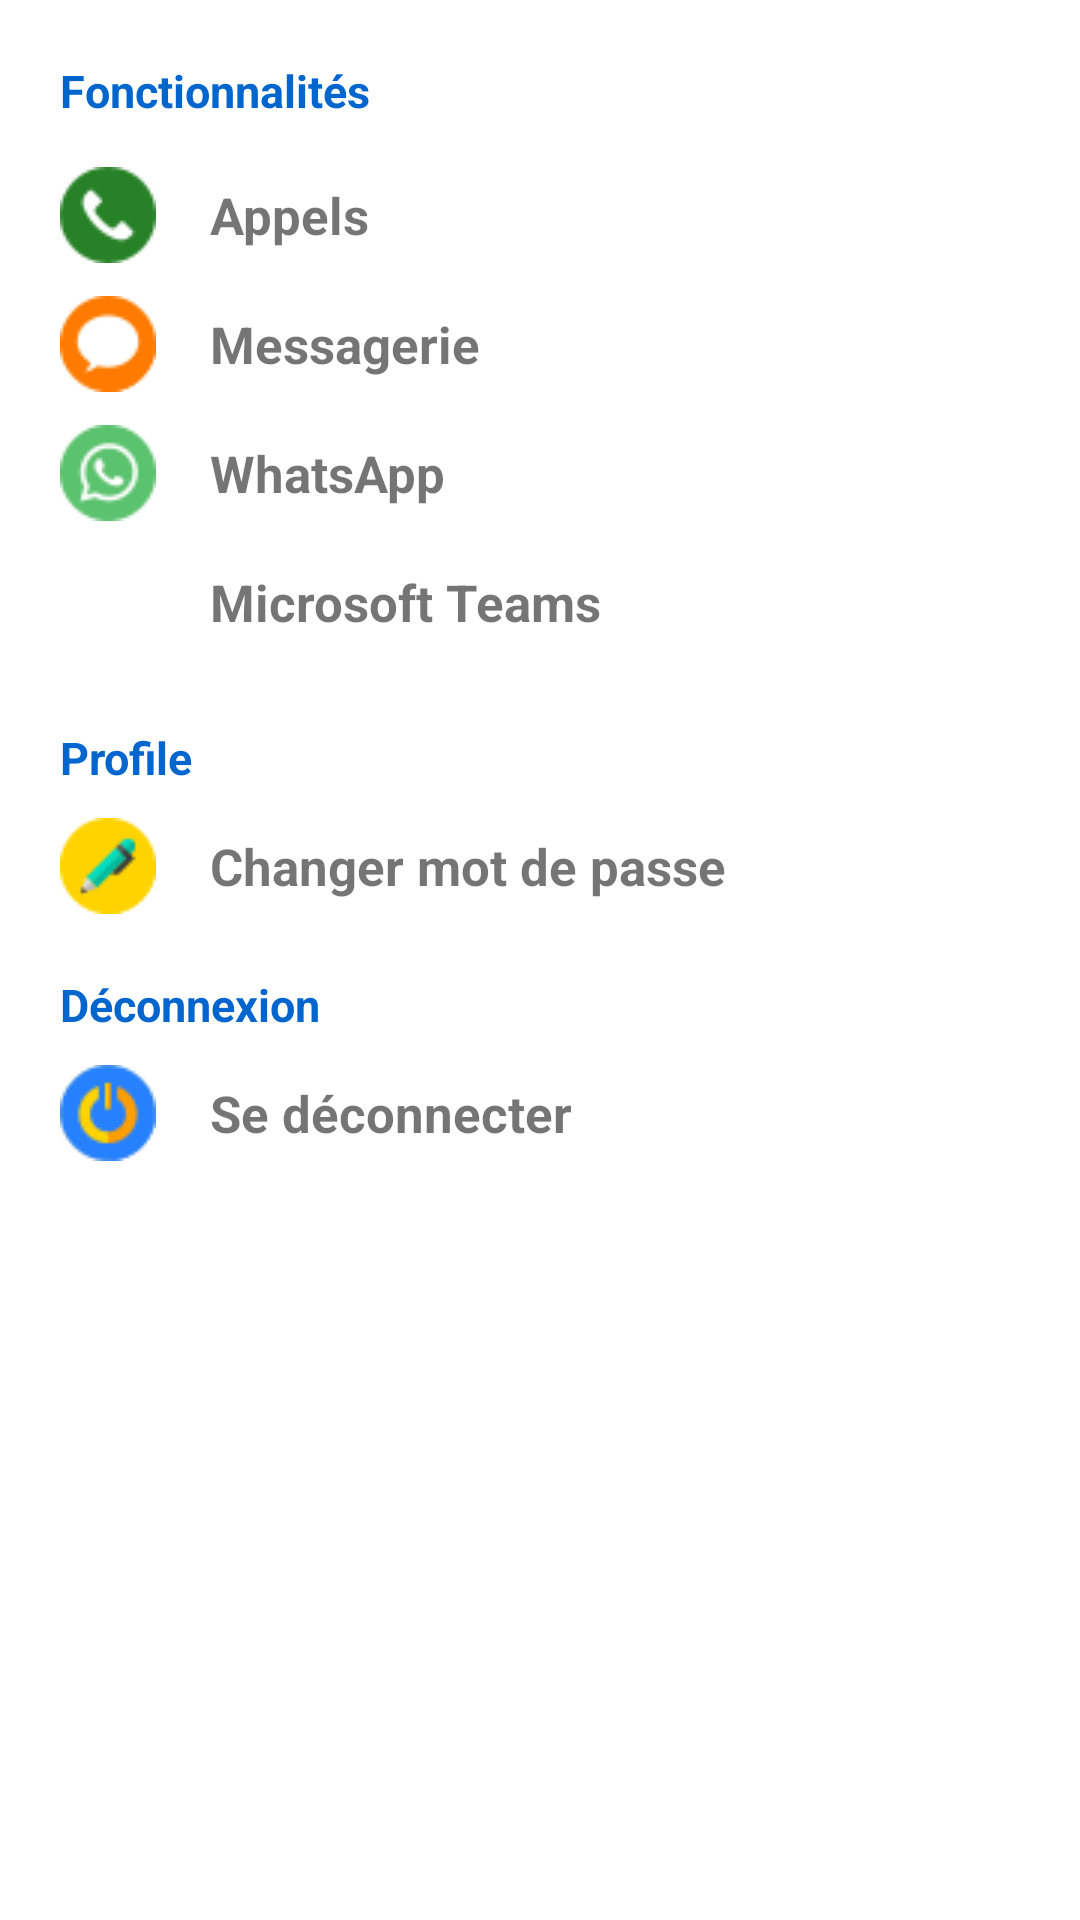

Named icons in this screenshot (1080px x 1920px) and their centers, (x,y):
iconecall: (108,215)
iconechat: (108,344)
poweroff: (108,1113)
